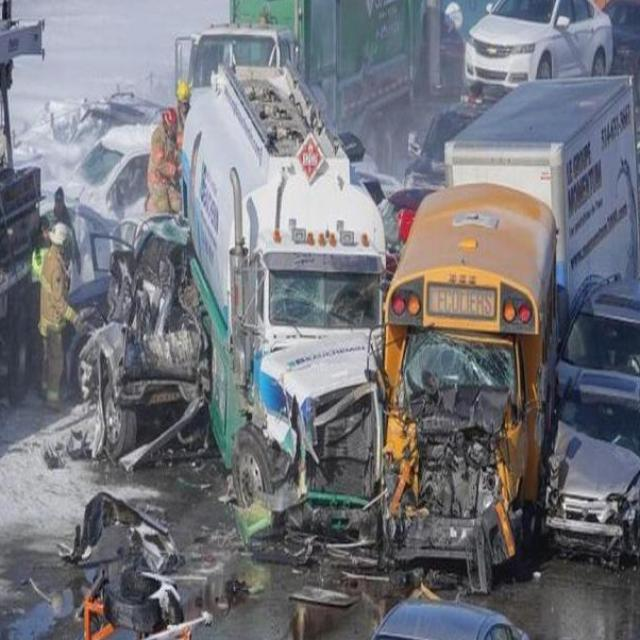accident: (24, 110, 640, 574)
